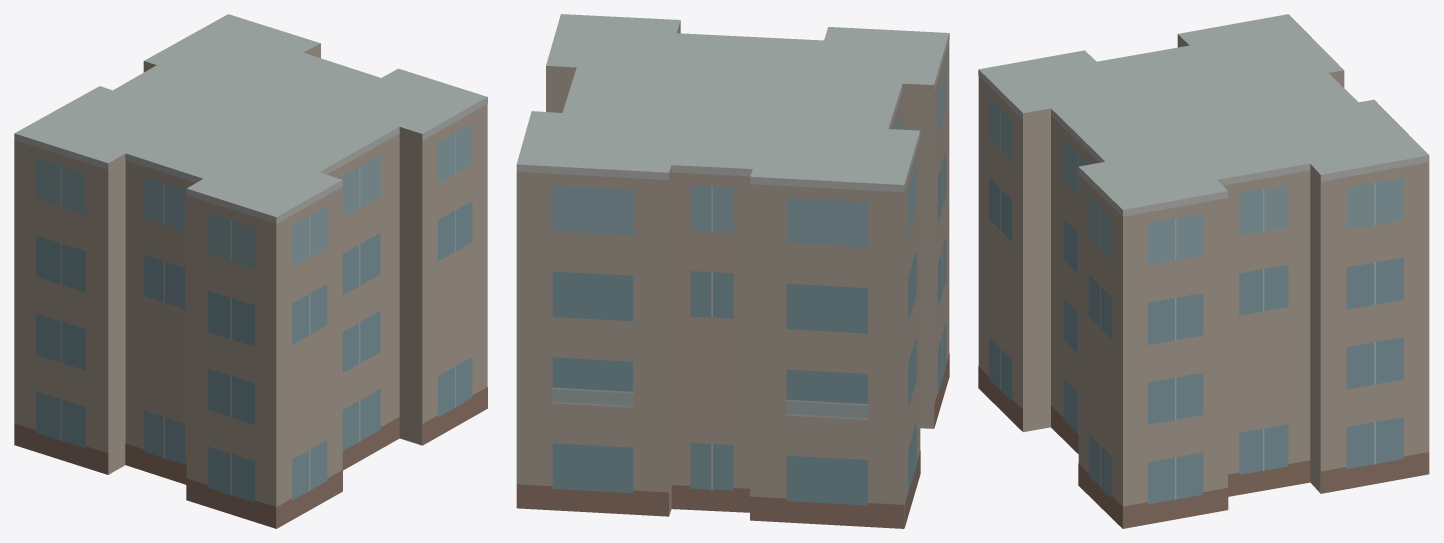
Rendered from survey-upis-32677909.glb.
The picture shows the model from 3 angles, left to right: view 1: azimuth 30°, elevation 25°; view 2: azimuth 150°, elevation 25°; view 3: azimuth 270°, elevation 25°; orthographic projection. The views are drawn at different scales.
Visible parts, largest first — view 1: survey-upis-32677909.tmp; view 2: survey-upis-32677909.tmp; view 3: survey-upis-32677909.tmp.
Boxes of the visible parts, x1,y1,x2,y2 form: survey-upis-32677909.tmp: (14,14,487,528); survey-upis-32677909.tmp: (516,14,949,528); survey-upis-32677909.tmp: (978,14,1429,528).
Size of the model in its own units: 15.03 by 11.4 by 14.62.
